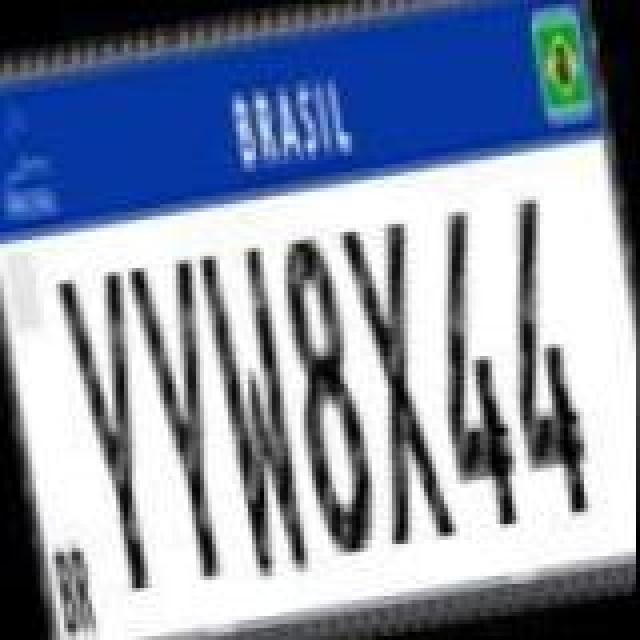4: (476, 182, 596, 522), (406, 196, 522, 536)
8: (268, 222, 388, 562)
W: (194, 236, 322, 584)
X: (334, 212, 458, 552)
Y: (52, 264, 176, 600), (124, 252, 248, 588)
